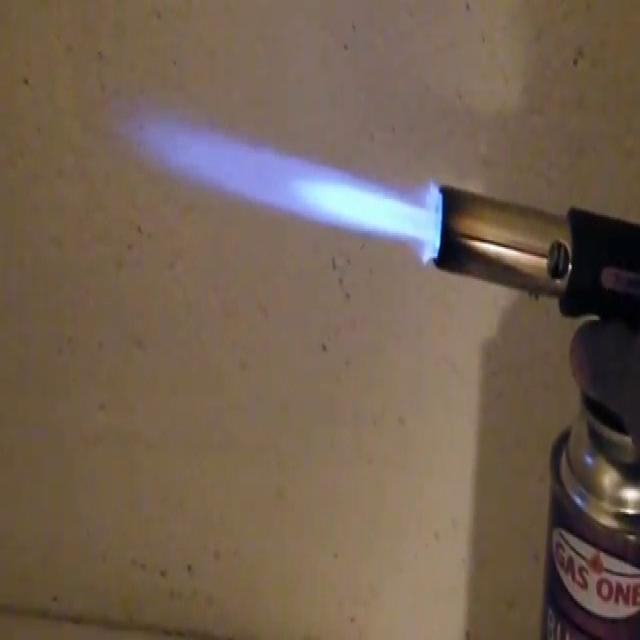fire: (111, 31, 446, 334)
